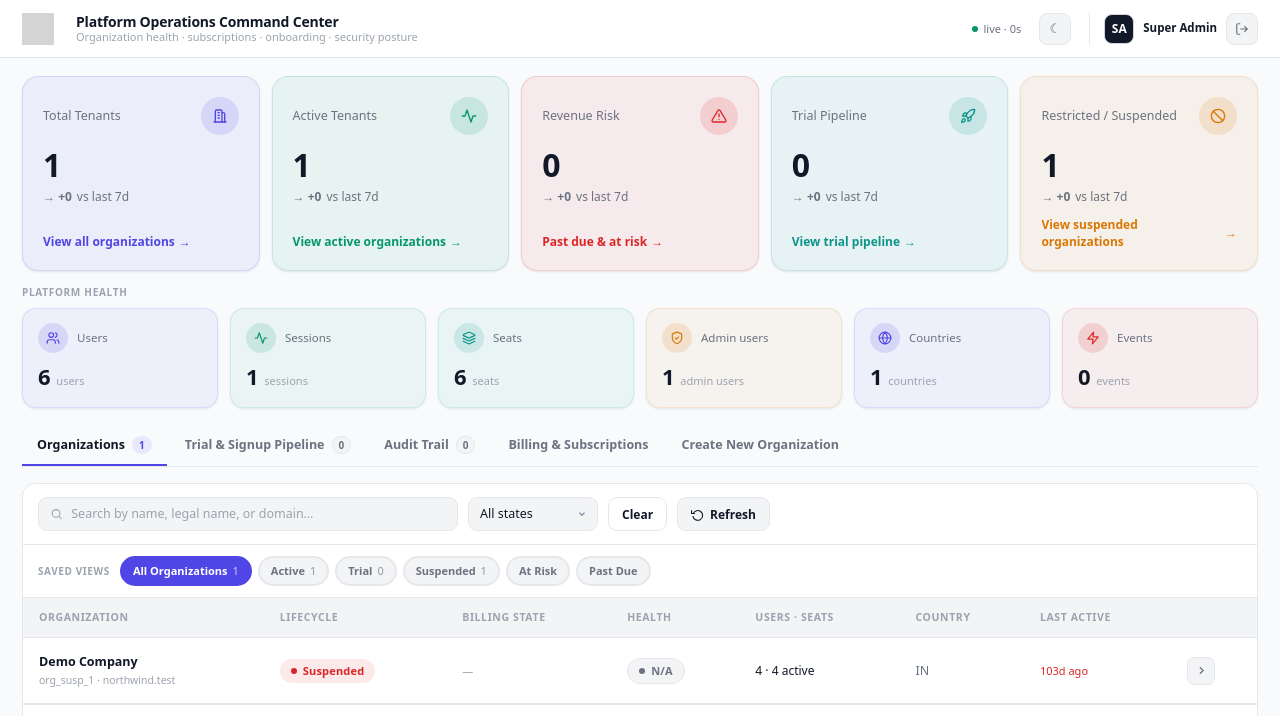
Scenario: lifecycle actions offered per state › a SUSPENDED organization offers Reactivate and Delete
Click the text "Demo Company" at (88, 662), box left=39, top=653, right=138, bottom=670
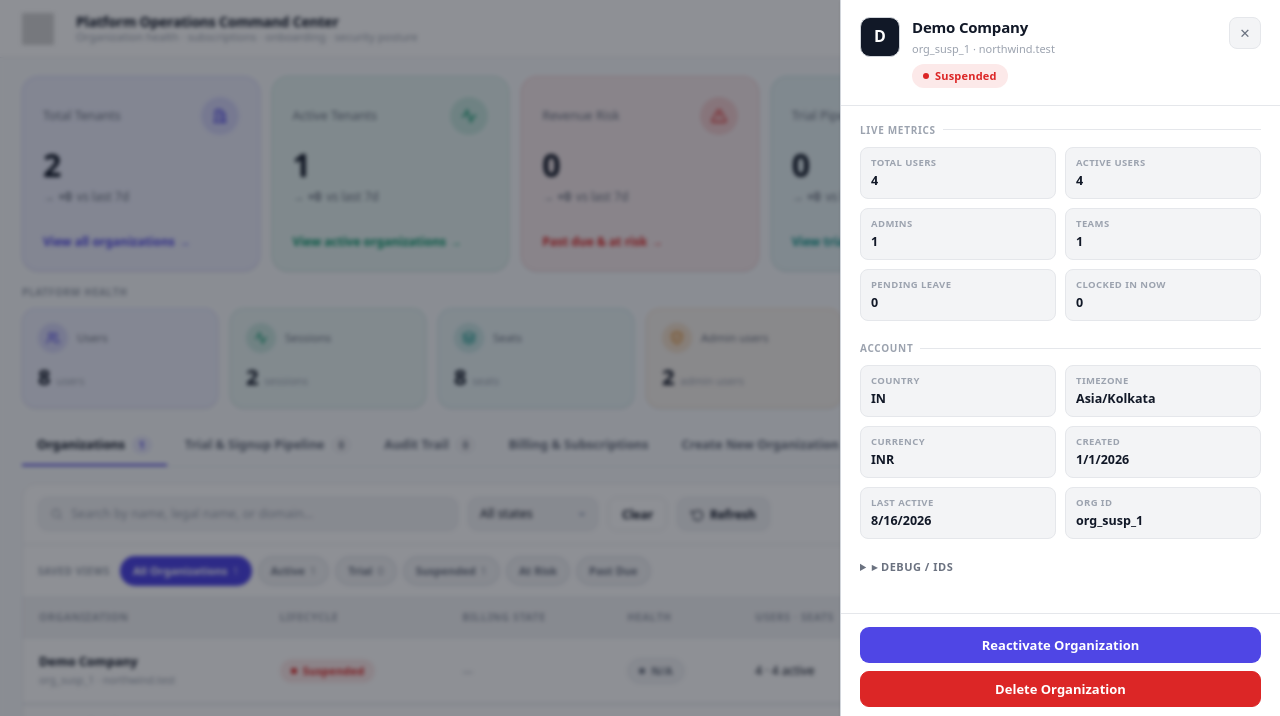
Result: the button "Reactivate Organization" is shown at left=860, top=627, right=1261, bottom=663
Result: the button "Delete Organization" is shown at left=860, top=671, right=1261, bottom=707
